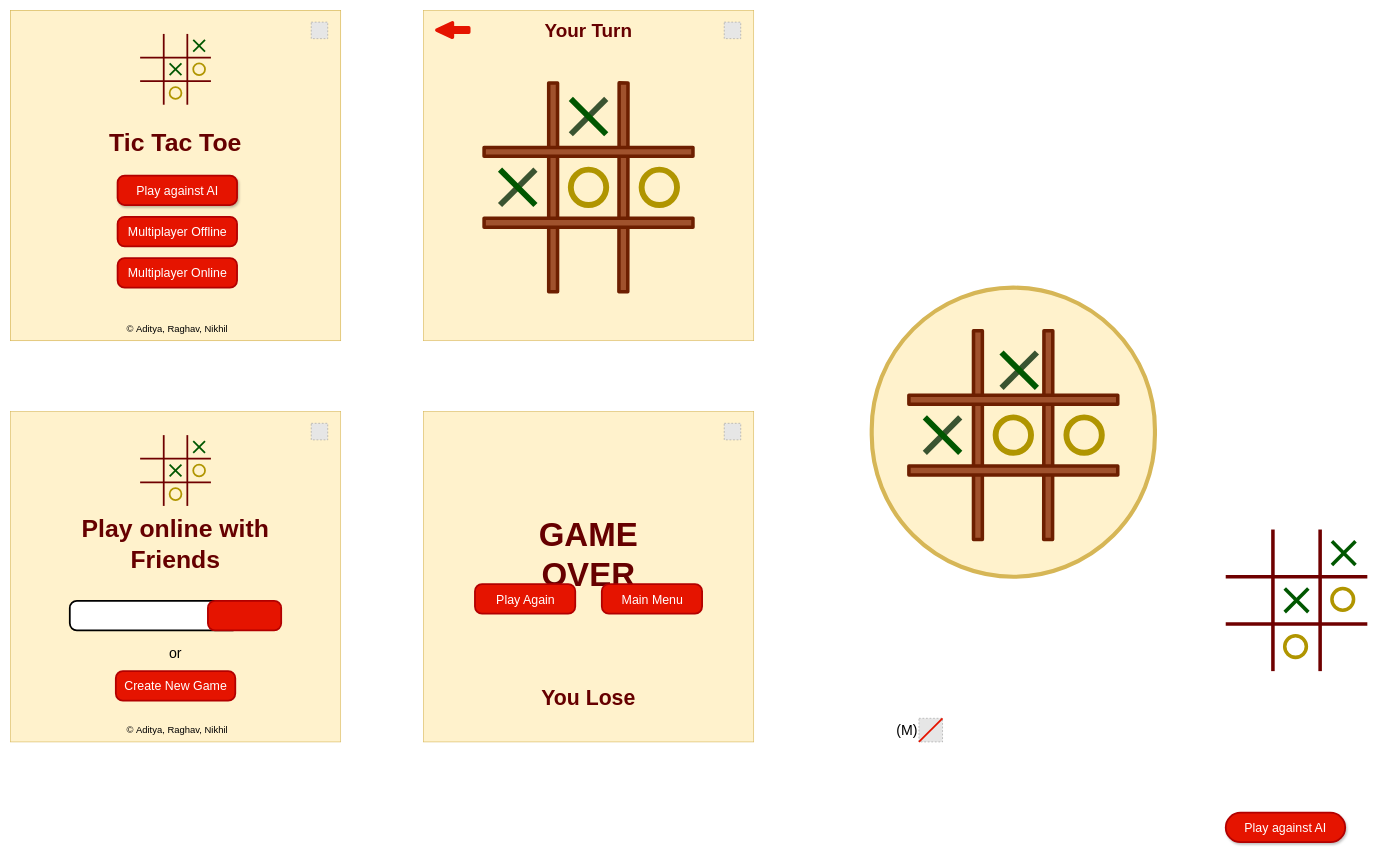
Some shapes in this 1380 by 857 pixel diagram are drawn without their labels. Grey dashed boxes stand in for pictures. Here are the shapes that lost their labels. From the top down, the centre of each, then its label:
At (154,615): "Enter Game Code".
At (244,615): "Join Game".
